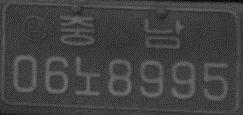0: (11, 53, 38, 94)
5: (202, 61, 231, 102)
6: (44, 55, 70, 95)
8: (107, 57, 132, 98)
9: (169, 60, 196, 99), (138, 59, 164, 98)
노: (73, 56, 101, 97)
영: (21, 14, 49, 42)
충남_D: (59, 13, 184, 49)
